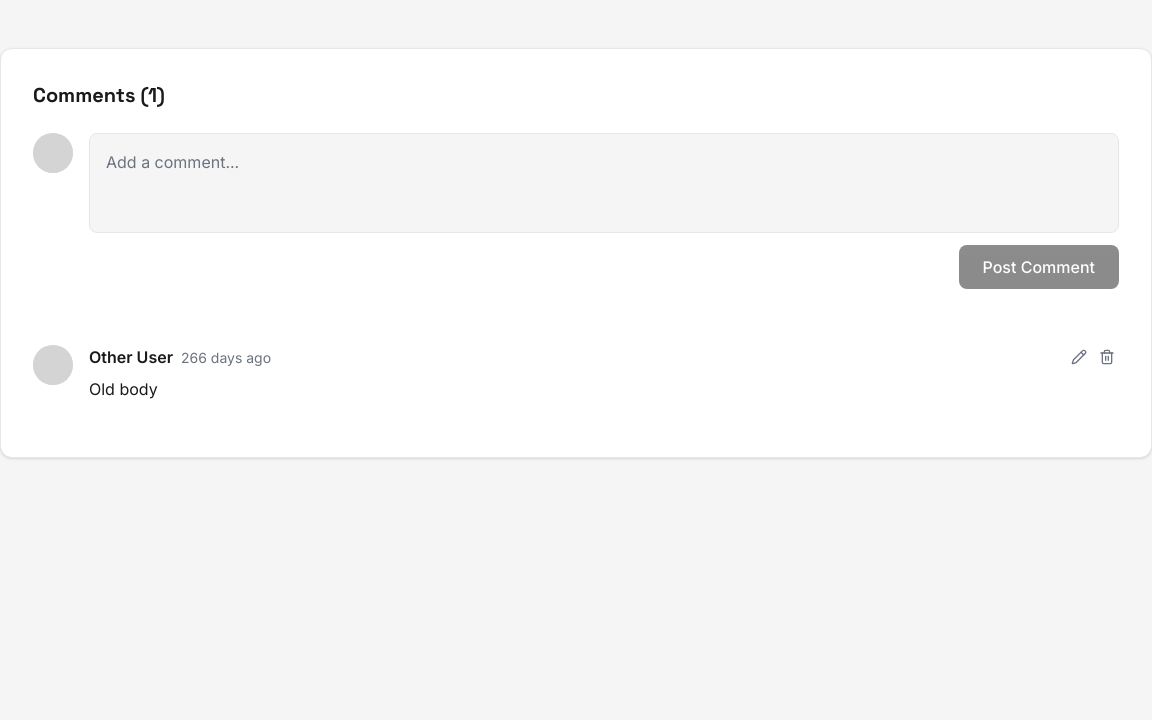
CommentsSection › edits a comment and updates its body on success
Expected: the element with test id "comments-list" is shown, [33,345,1119,399]
Click the button with test id "edit-comment-btn" at (1079, 357), box [1067,345,1091,369]
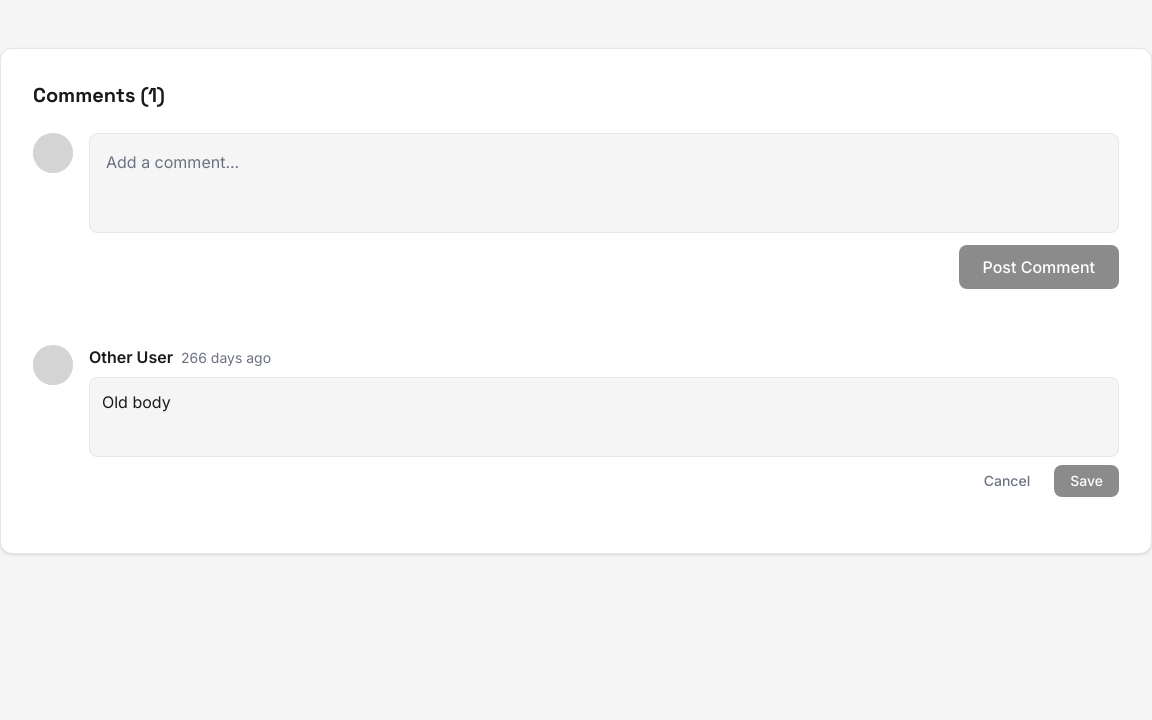
Replace the text in the text box with test id "edit-comment-input" with "New body" at (604, 417), box [89,377,1119,457]
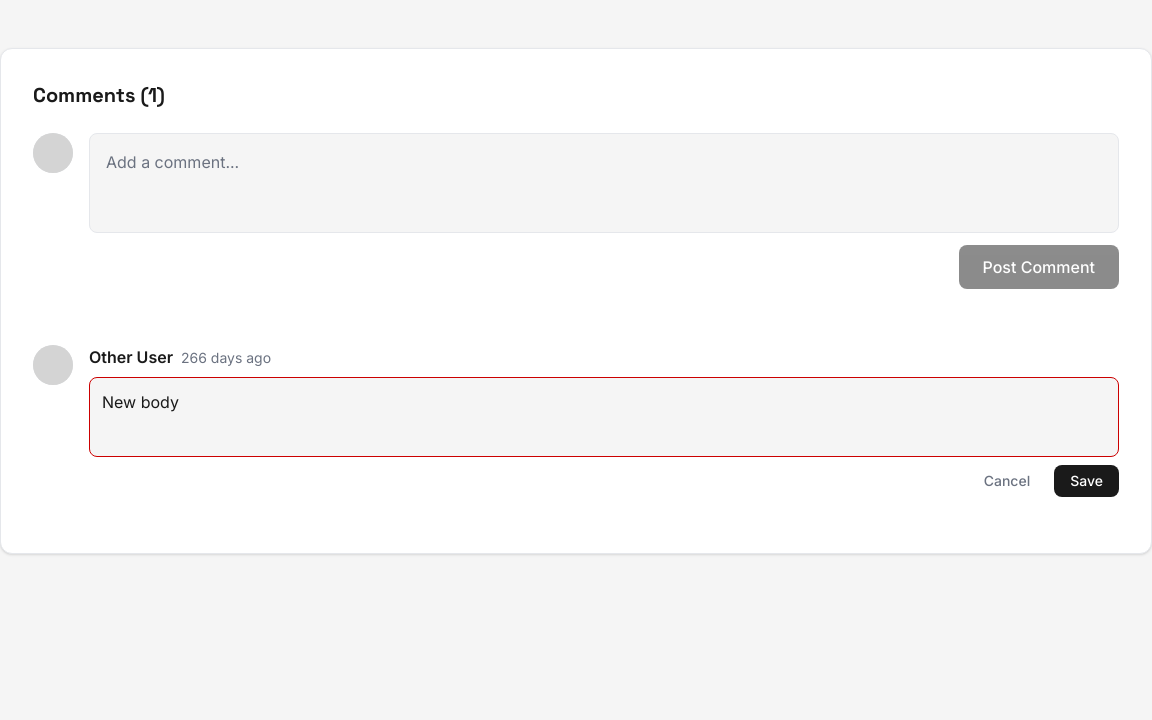
Click the button with test id "save-edit-comment-btn" at (1087, 481), box [1054,465,1119,497]
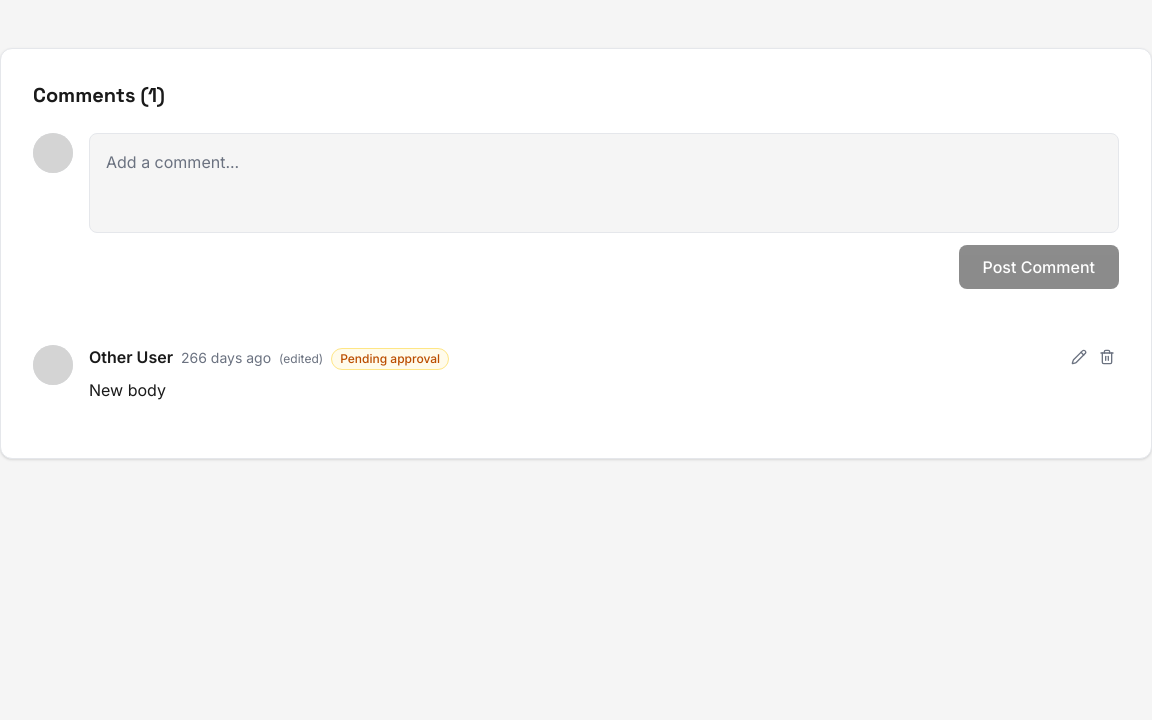
Expected: the text "New body" is shown, [89,380,166,400]
